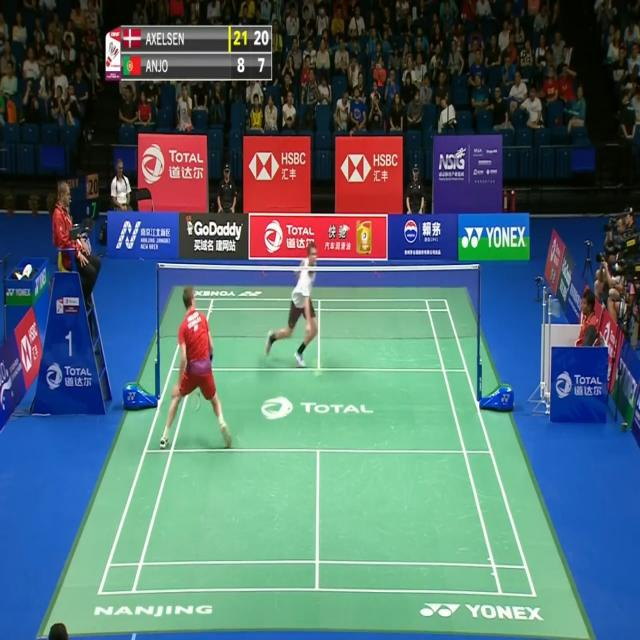Player1: (159, 282, 235, 450)
Player2: (260, 240, 330, 371)
